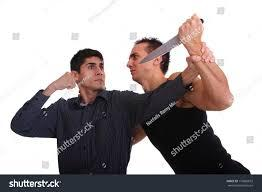Knife: (11, 48, 199, 175), (127, 14, 252, 175), (140, 33, 184, 64), (180, 14, 204, 44)
